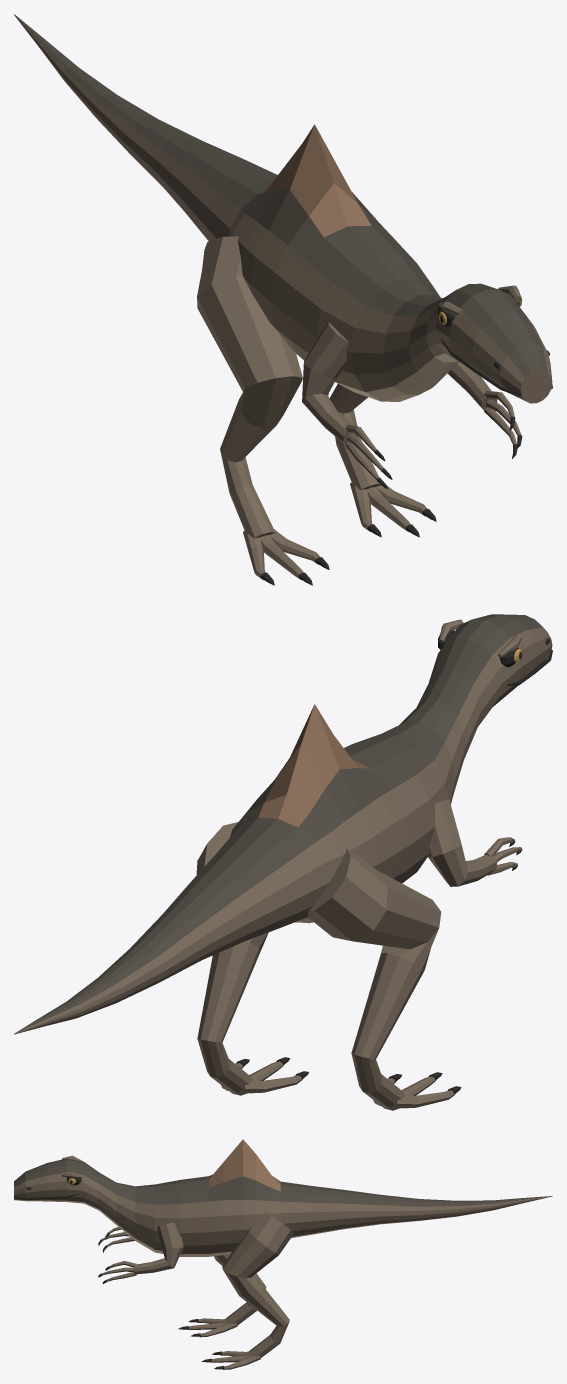
3 renders of one model, top to bottom at view 1: azimuth 30°, elevation 25°; view 2: azimuth 150°, elevation 25°; view 3: azimuth 270°, elevation 25°, orthographic. The views are drawn at different scales.
Visible parts, largest first — view 1: Continuous-head-neck-trunk-local-crest-tail, Muscular-hindlimbs, Three-pedal-and-three-manual-digits, Inward-facing-grasping-forelimbs, Terminal-claws; view 2: Continuous-head-neck-trunk-local-crest-tail, Muscular-hindlimbs, Inward-facing-grasping-forelimbs, Three-pedal-and-three-manual-digits; view 3: Continuous-head-neck-trunk-local-crest-tail, Muscular-hindlimbs, Three-pedal-and-three-manual-digits, Inward-facing-grasping-forelimbs, Terminal-claws.
Boxes of the visible parts, x1=… form: Continuous-head-neck-trunk-local-crest-tail: x1=14, y1=14, x2=552, y2=403; Muscular-hindlimbs: x1=197, y1=236, x2=521, y2=538; Three-pedal-and-three-manual-digits: x1=243, y1=391, x2=521, y2=580; Inward-facing-grasping-forelimbs: x1=302, y1=298, x2=497, y2=445; Terminal-claws: x1=260, y1=416, x2=522, y2=585; Continuous-head-neck-trunk-local-crest-tail: x1=14, y1=614, x2=552, y2=1034; Muscular-hindlimbs: x1=196, y1=619, x2=521, y2=1110; Inward-facing-grasping-forelimbs: x1=427, y1=799, x2=497, y2=886; Three-pedal-and-three-manual-digits: x1=221, y1=837, x2=521, y2=1108; Continuous-head-neck-trunk-local-crest-tail: x1=14, y1=1139, x2=552, y2=1256; Muscular-hindlimbs: x1=62, y1=1155, x2=294, y2=1361; Three-pedal-and-three-manual-digits: x1=101, y1=1227, x2=260, y2=1369; Inward-facing-grasping-forelimbs: x1=133, y1=1222, x2=183, y2=1274; Terminal-claws: x1=98, y1=1232, x2=224, y2=1369.
Bounding box in the file's own units: 1.3 × 2.54 × 6.
